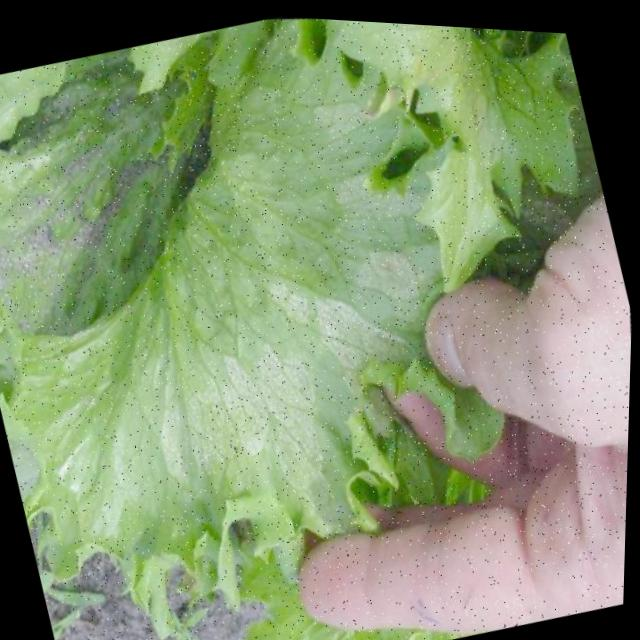Bad: (0, 19, 502, 602)
